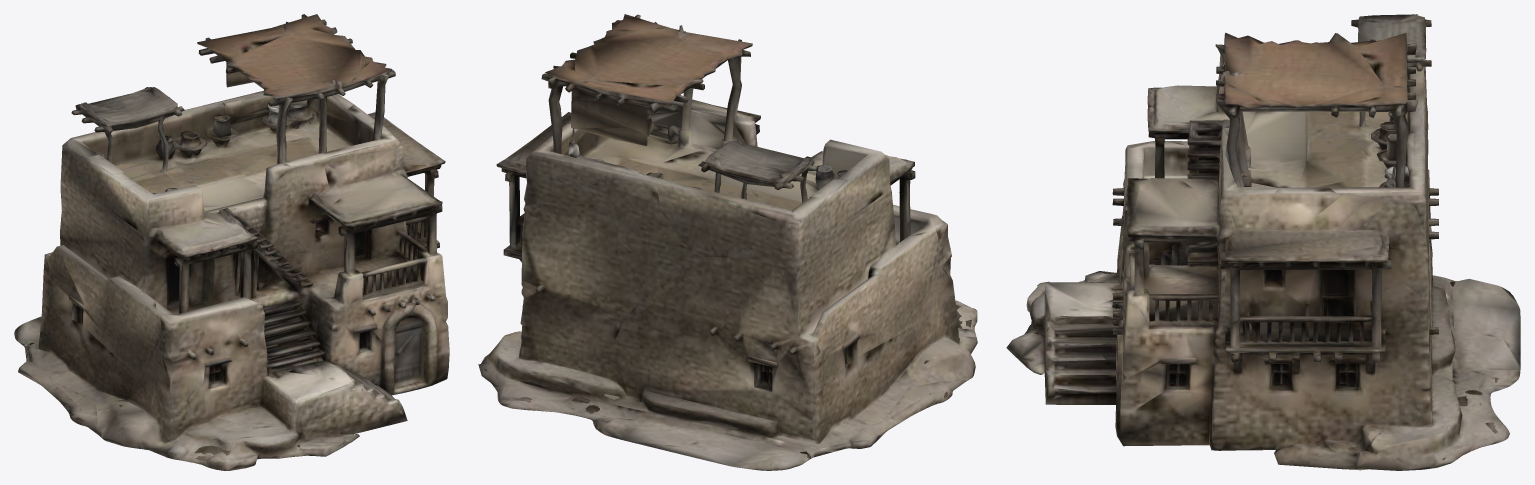
File: house_10.glb
3 views of the same model, side by side, from view 1: azimuth 30°, elevation 25°; view 2: azimuth 150°, elevation 25°; view 3: azimuth 270°, elevation 25° (orthographic). The views are drawn at different scales.
Visible parts, largest first — view 1: node_0; view 2: node_0; view 3: node_0.
Boxes of the visible parts, box(x1,y1,x2,y2) form: node_0: box(14, 14, 449, 470); node_0: box(478, 14, 977, 470); node_0: box(1006, 14, 1520, 470).
Bounding box in the file's own units: 0.8595 × 0.6355 × 0.8765.
1 material, 1 textured.
